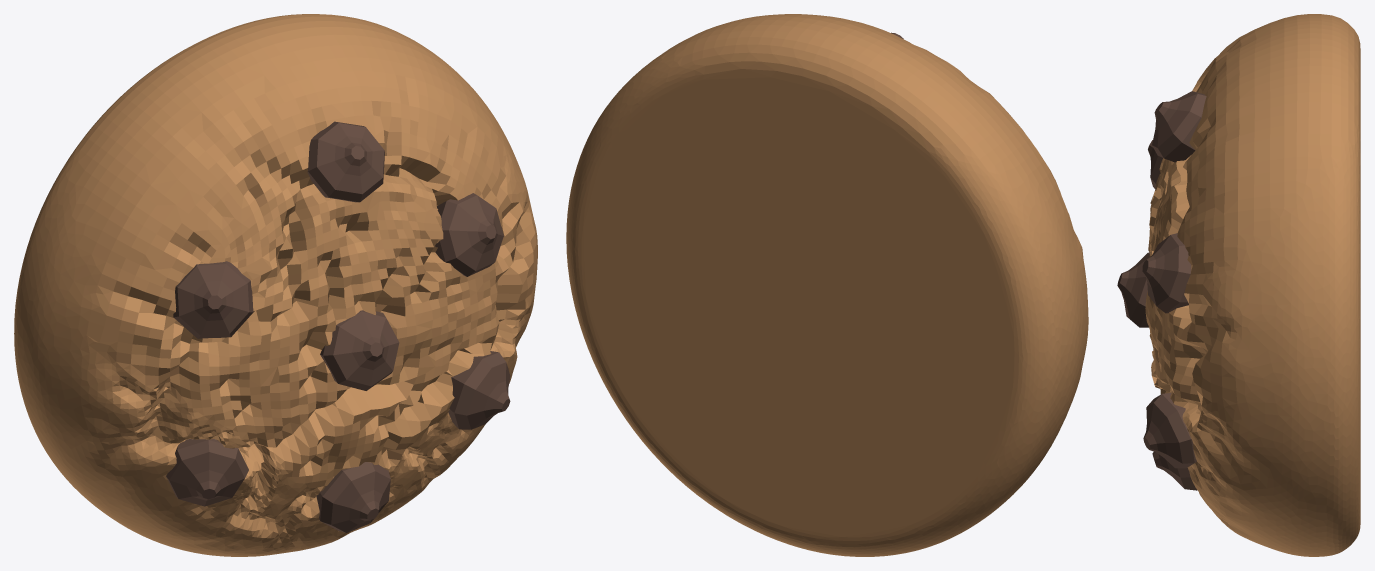
Rendered from cookie.glb.
3 renders of one model, left to right at view 1: azimuth 30°, elevation 25°; view 2: azimuth 150°, elevation 25°; view 3: azimuth 270°, elevation 25°, orthographic. The views are drawn at different scales.
Visible parts, largest first — view 1: cookie_body, cookie_chips; view 2: cookie_body; view 3: cookie_body, cookie_chips.
Boxes of the visible parts, <box> form: cookie_body: <box>14,14,537,556</box>; cookie_chips: <box>166,121,510,532</box>; cookie_body: <box>566,14,1088,556</box>; cookie_body: <box>1145,14,1360,556</box>; cookie_chips: <box>1117,91,1206,490</box>.
Bounding box in the file's own units: 14.14 × 14.2 × 6.33.
